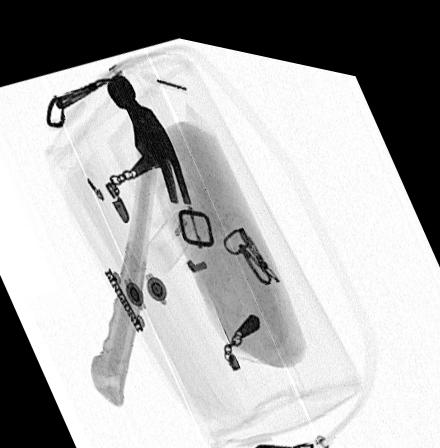Hammer: (89, 68, 192, 403)
